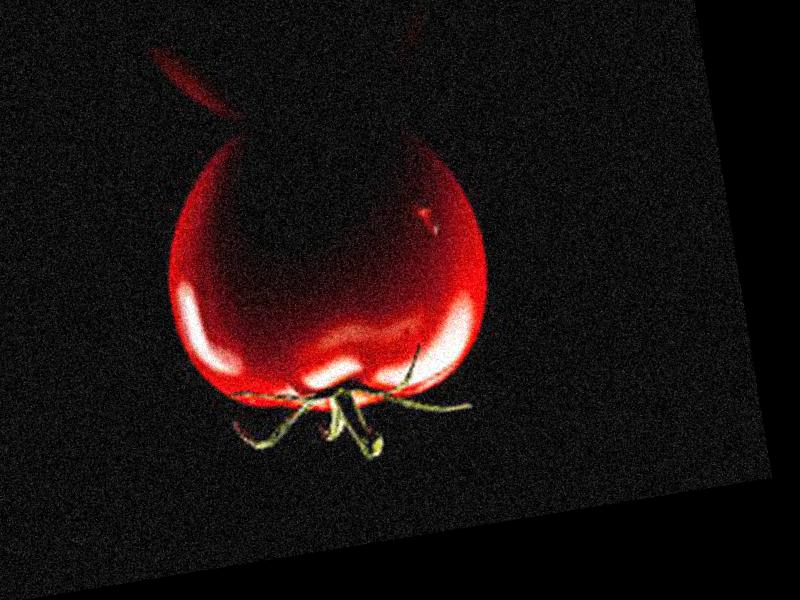Tomato: (148, 105, 507, 441)
